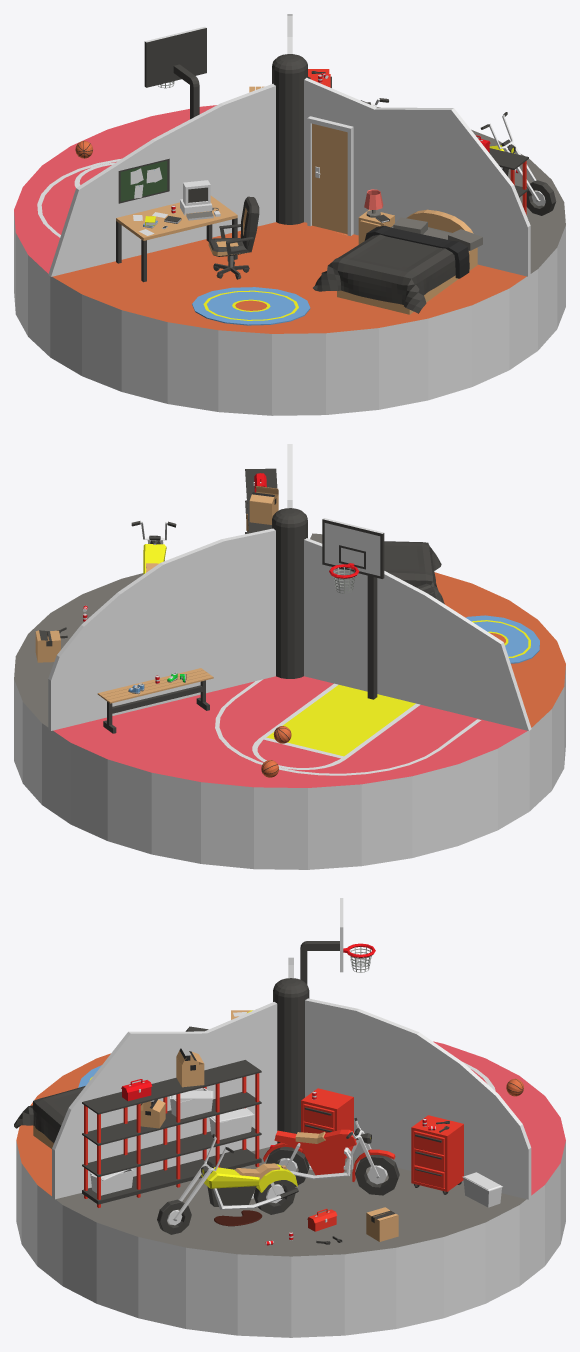
Rendered from carousel.glb.
The picture shows the model from 3 angles, top to bottom: view 1: azimuth 30°, elevation 25°; view 2: azimuth 150°, elevation 25°; view 3: azimuth 270°, elevation 25°; orthographic projection.
Parts seen in each view (by area): view 1: Scene; view 2: Scene; view 3: Scene.
Boxes of the visible parts, box(x1,y1,x2,y2) form: Scene: box(14, 14, 565, 415); Scene: box(14, 444, 565, 869); Scene: box(14, 898, 565, 1337).
Size of the model in its own units: 10.19 by 5.43 by 10.21.
